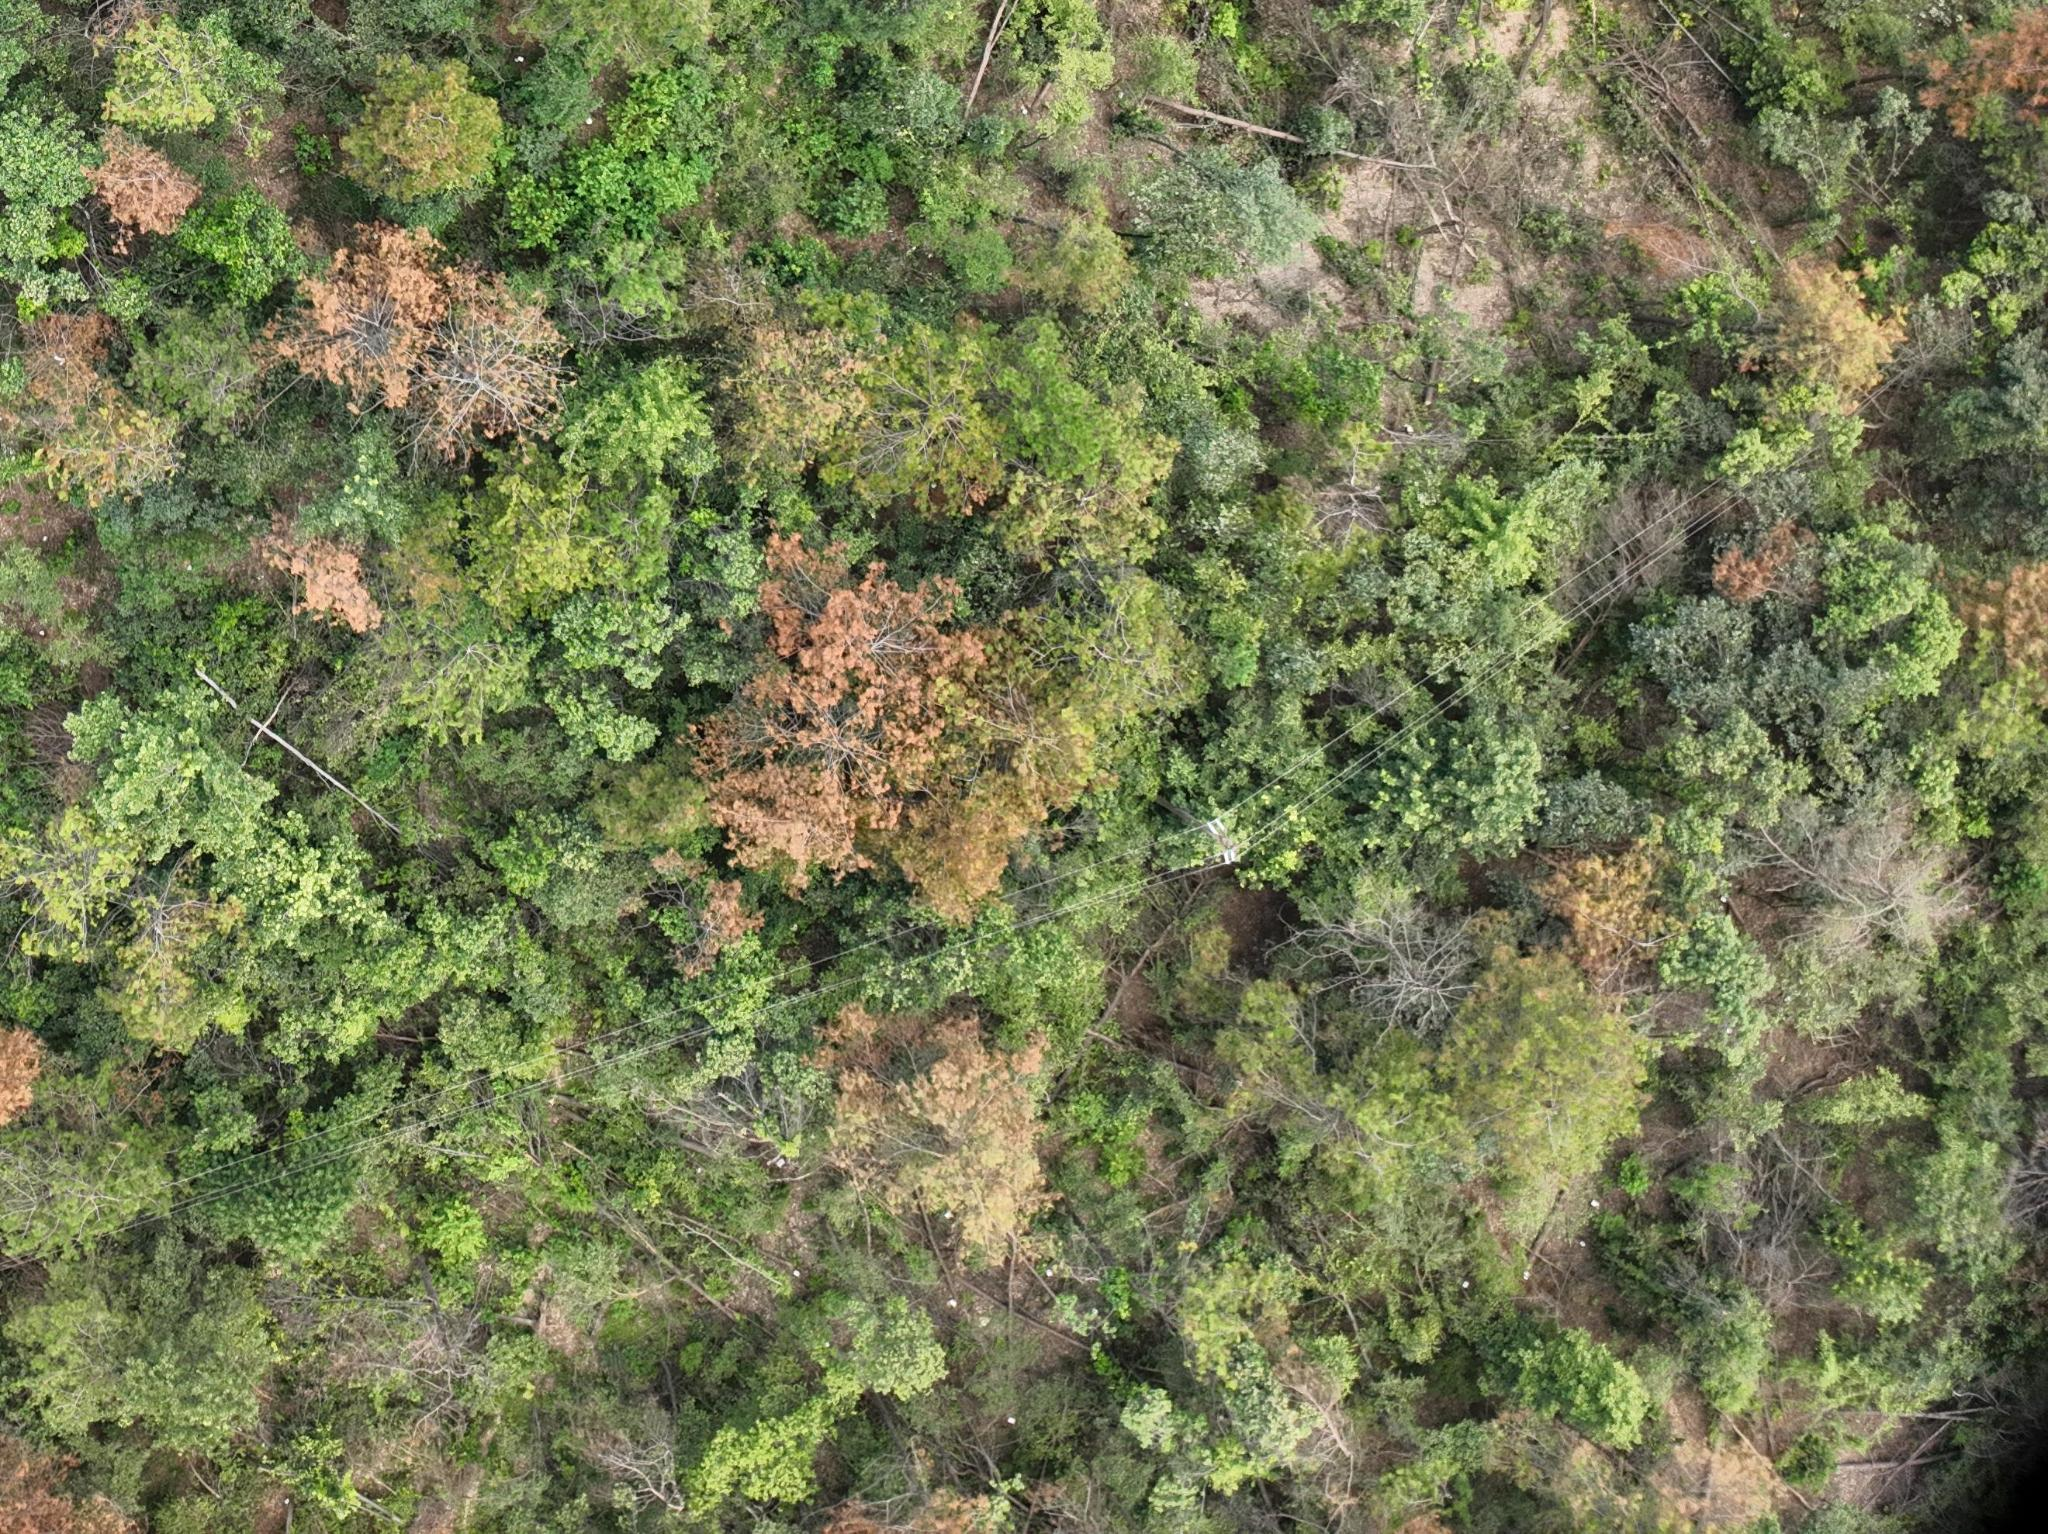heavy: (707, 519, 1046, 931), (272, 211, 564, 456), (807, 1002, 1055, 1255), (1536, 823, 1676, 976), (264, 522, 380, 638), (87, 135, 203, 243), (1661, 1437, 1785, 1524), (1961, 561, 2045, 685), (15, 1436, 119, 1529), (1702, 514, 1806, 596), (27, 311, 103, 411), (5, 1025, 40, 1126)
light: (735, 321, 994, 483), (348, 73, 487, 184), (42, 422, 185, 504), (396, 508, 467, 611)
